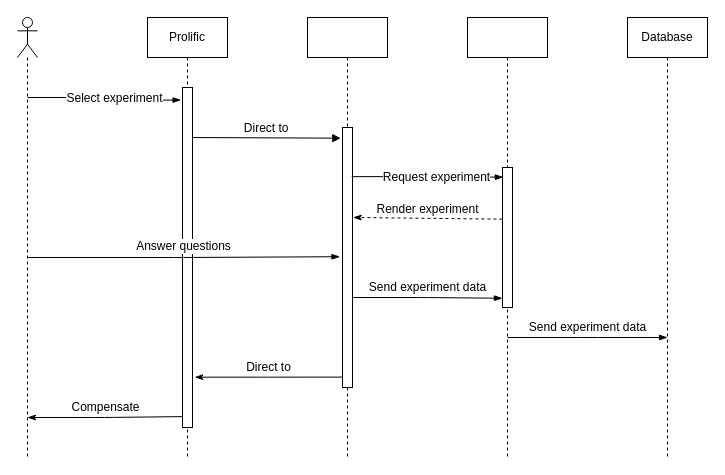
This 725x475 diagram has some shape labels left out. The shapes that lost their labels are listed below. From the top down, each one's box as (x1, y1, x2, y2) in pixels, then its label:
(306, 16, 388, 458): Client
(466, 16, 548, 458): Server
